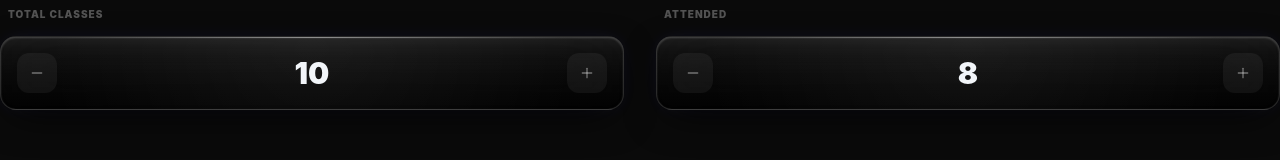
AttendanceControls › shows validation warning when user manually types attended > total
Step 1. Replace the text in the number field labelled "Attended" with "15" → {"x": 968, "y": 73}, box left=936, top=55, right=1000, bottom=91
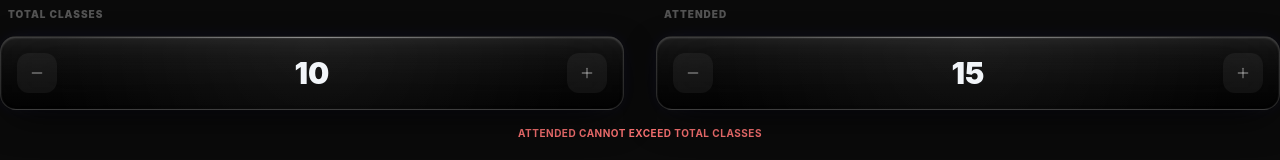
Check: the text "Attended cannot exceed total classes" is shown, box left=518, top=127, right=762, bottom=139
